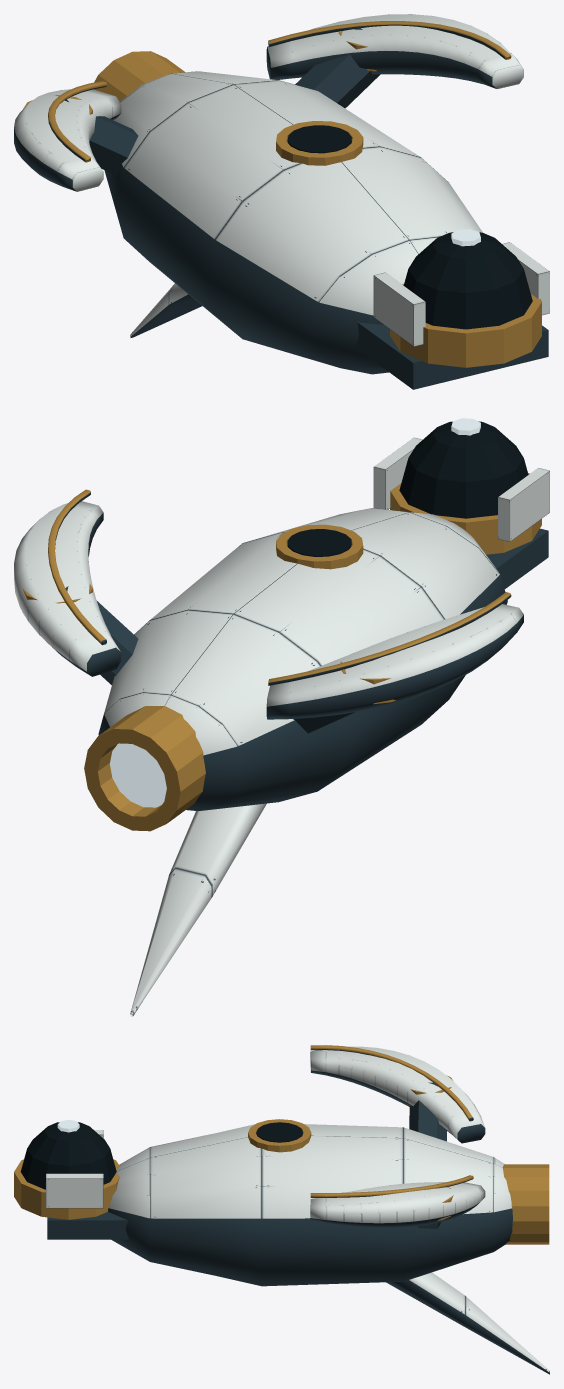
Rendered from pioneer-europa-l02-shield.glb.
The picture shows the model from 3 angles, top to bottom: view 1: azimuth 30°, elevation 25°; view 2: azimuth 150°, elevation 25°; view 3: azimuth 270°, elevation 25°; orthographic projection. The views are drawn at different scales.
Visible parts, largest first — view 1: Drone; view 2: Drone; view 3: Drone.
Part boxes in pixels (x1,y1,x2,y2): Drone: (14,14,549,389); Drone: (14,418,549,1016); Drone: (14,1045,549,1374).
Bounding box in the file's own units: 0.9147 × 0.6652 × 1.27.
Materials: 3 (3 with a texture image).
